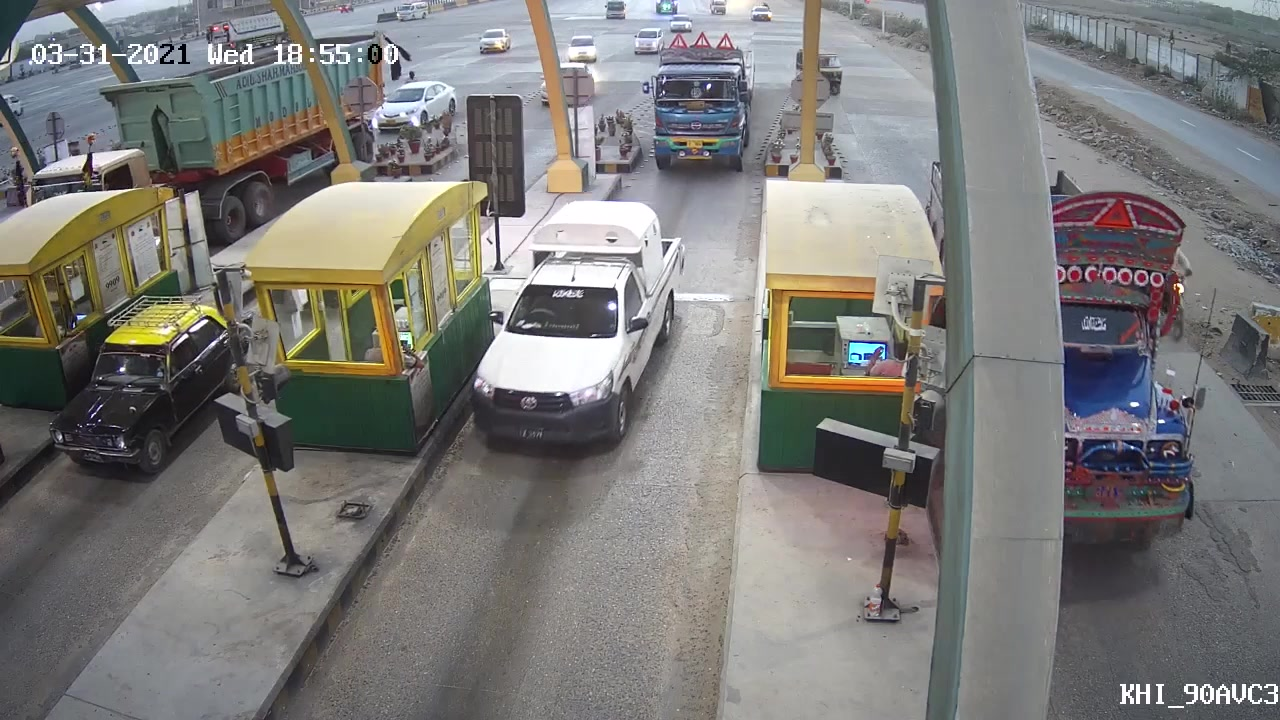F1: (465, 198, 687, 440)
